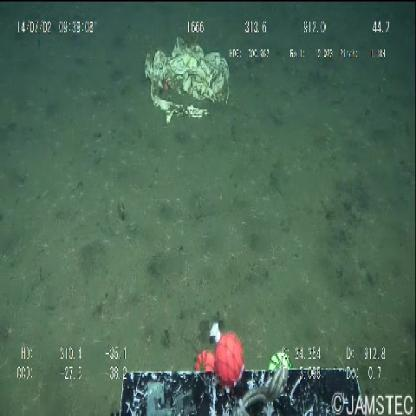Rov: (105, 310, 379, 414)
Rác: (138, 25, 238, 136)
